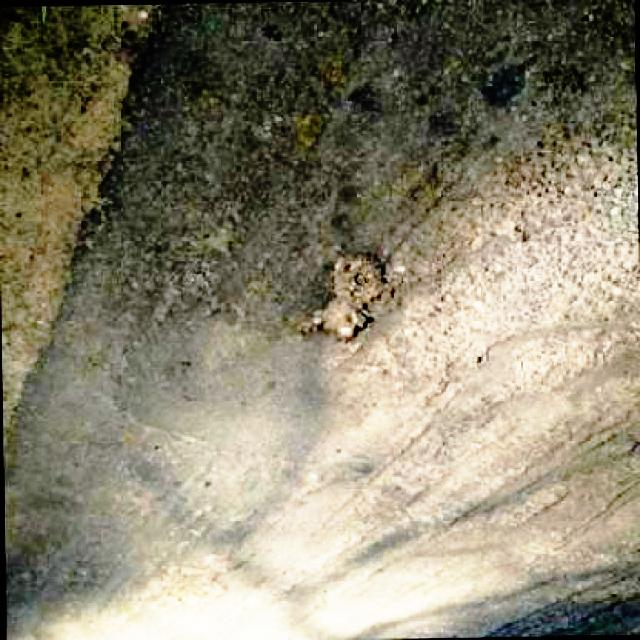pothole: (309, 248, 389, 343)
